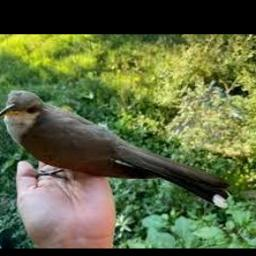Cuckoo: (0, 90, 229, 208)
